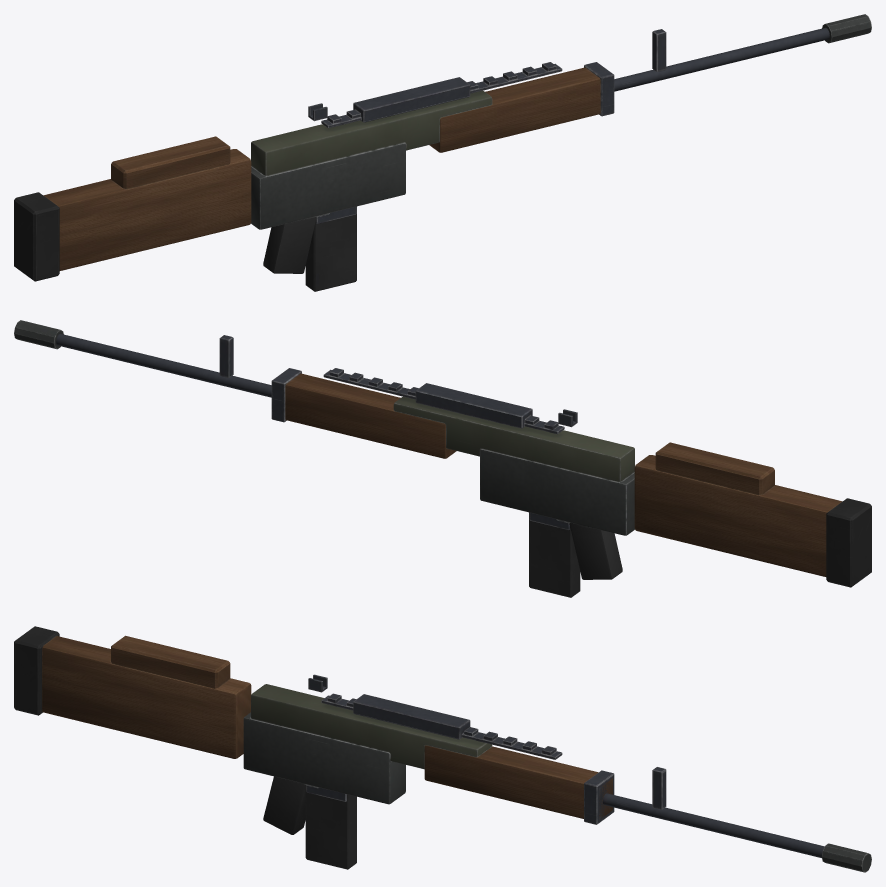
Rendered from weapon_scout_rifle.glb.
3 views of the same model, one above another, from view 1: azimuth 30°, elevation 25°; view 2: azimuth 150°, elevation 25°; view 3: azimuth 330°, elevation 25° (orthographic).
Parts seen in each view (by area): view 1: Body, DefaultStock, DefaultMag, DefaultBarrel, DefaultMuzzle, IronSights; view 2: Body, DefaultStock, DefaultMag, DefaultBarrel, DefaultMuzzle, IronSights; view 3: Body, DefaultStock, DefaultMag, DefaultBarrel, DefaultMuzzle, IronSights.
Part boxes in pixels (bbox=[...]): Body: bbox=[251, 62, 614, 273]; DefaultStock: bbox=[14, 136, 251, 281]; DefaultMag: bbox=[305, 206, 356, 291]; DefaultBarrel: bbox=[614, 27, 829, 91]; DefaultMuzzle: bbox=[822, 14, 871, 43]; IronSights: bbox=[308, 29, 666, 121]; Body: bbox=[271, 368, 634, 579]; DefaultStock: bbox=[634, 442, 871, 587]; DefaultMag: bbox=[529, 512, 580, 597]; DefaultBarrel: bbox=[56, 333, 271, 397]; DefaultMuzzle: bbox=[14, 320, 63, 349]; IronSights: bbox=[219, 335, 577, 427]; Body: bbox=[243, 684, 614, 834]; DefaultStock: bbox=[14, 626, 251, 758]; DefaultMag: bbox=[305, 789, 356, 869]; DefaultBarrel: bbox=[603, 793, 824, 857]; DefaultMuzzle: bbox=[822, 843, 871, 872]; IronSights: bbox=[308, 674, 666, 809].
Size of the model in its own units: 1.26 by 0.2575 by 0.055.
Materials: 1 (1 with a texture image).
